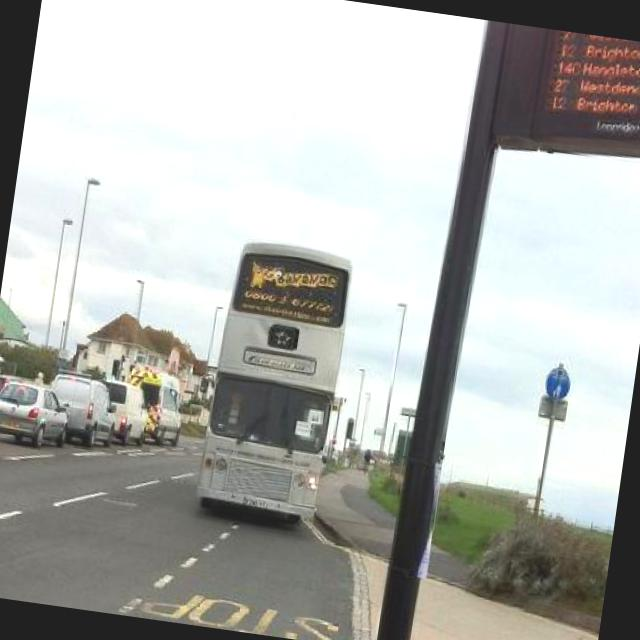Person: (213, 380, 256, 433), (358, 444, 376, 476)
